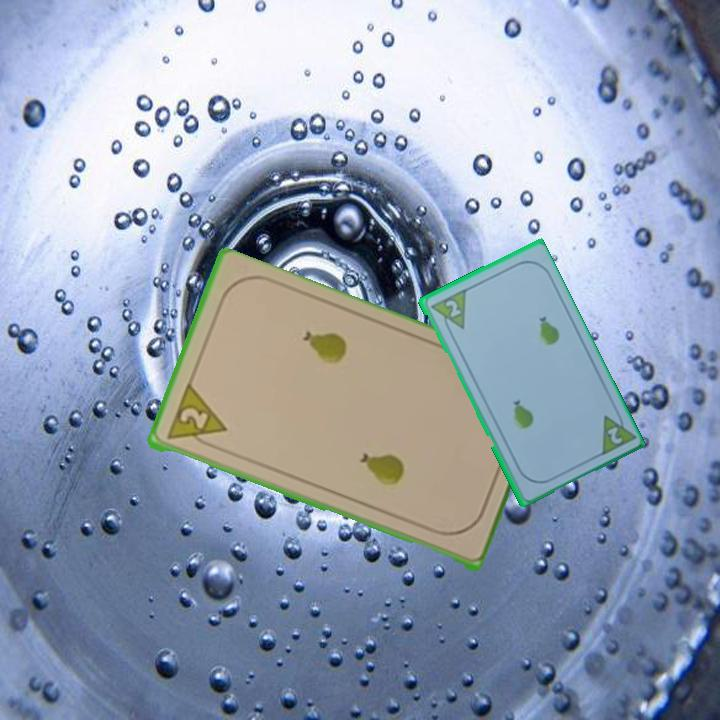2p: (162, 382, 229, 451), (441, 296, 463, 320), (603, 423, 625, 447)
